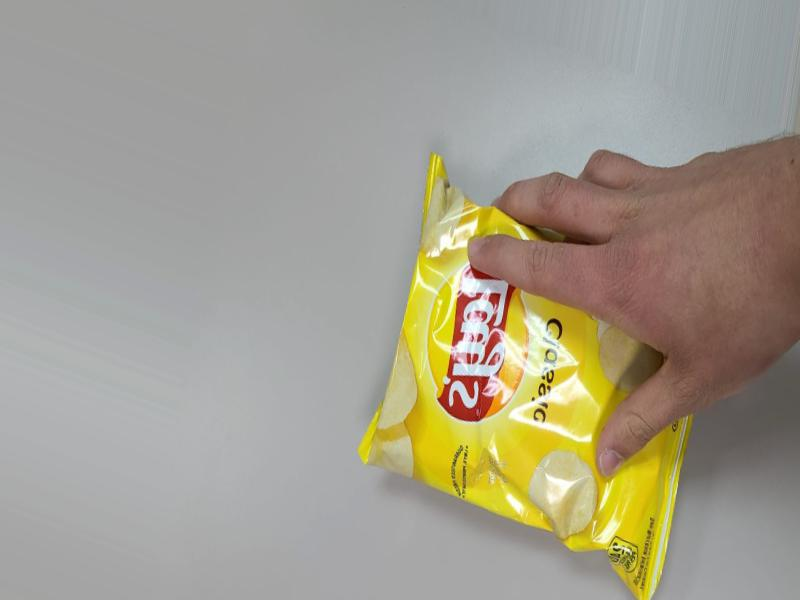lays: (353, 182, 670, 583)
